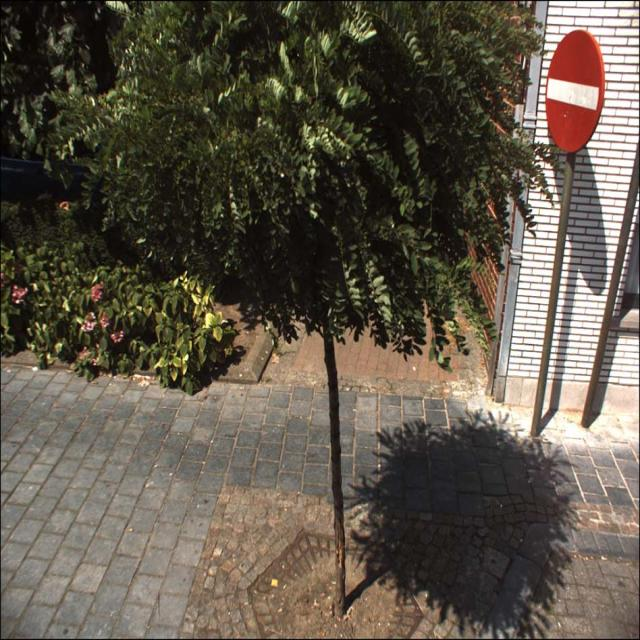girisyok: (545, 29, 603, 151)
